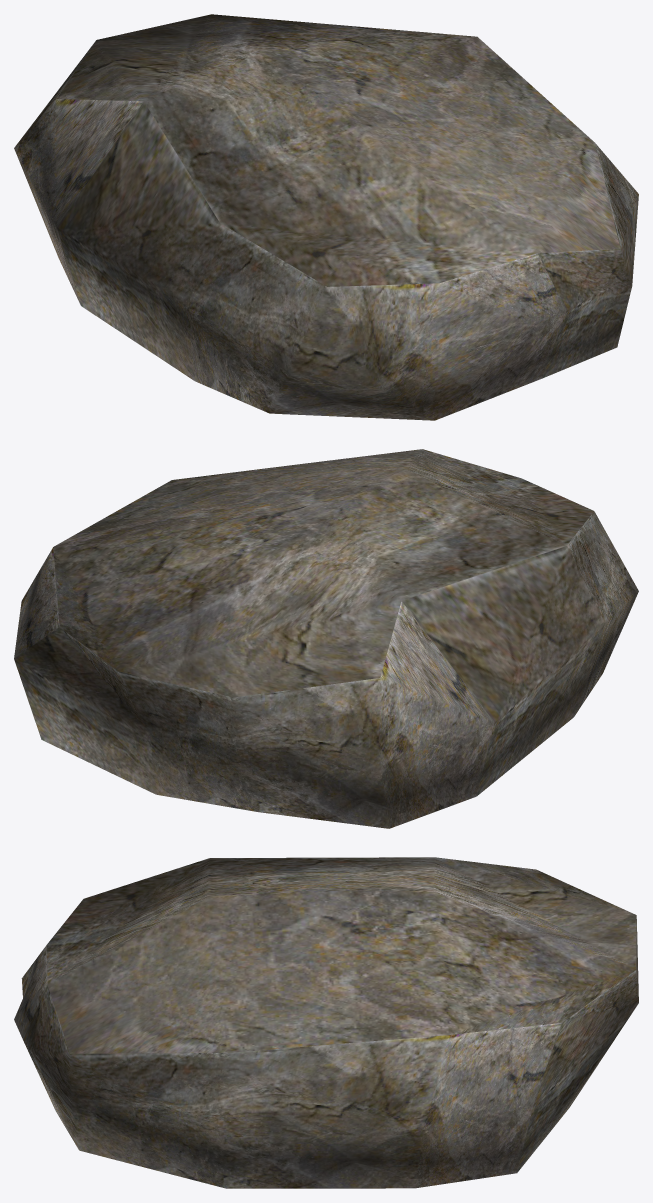
Rendered from Stone-02.fbx.
The picture shows the model from 3 angles, top to bottom: view 1: azimuth 30°, elevation 25°; view 2: azimuth 150°, elevation 25°; view 3: azimuth 270°, elevation 25°; orthographic projection. The views are drawn at different scales.
Parts seen in each view (by area): view 1: Stone-02; view 2: Stone-02; view 3: Stone-02.
Boxes of the visible parts, box(x1,y1,x2,y2) form: Stone-02: box(14, 14, 638, 420); Stone-02: box(14, 449, 638, 828); Stone-02: box(14, 857, 638, 1188).
Bounding box in the file's own units: 359 × 168 × 437.
